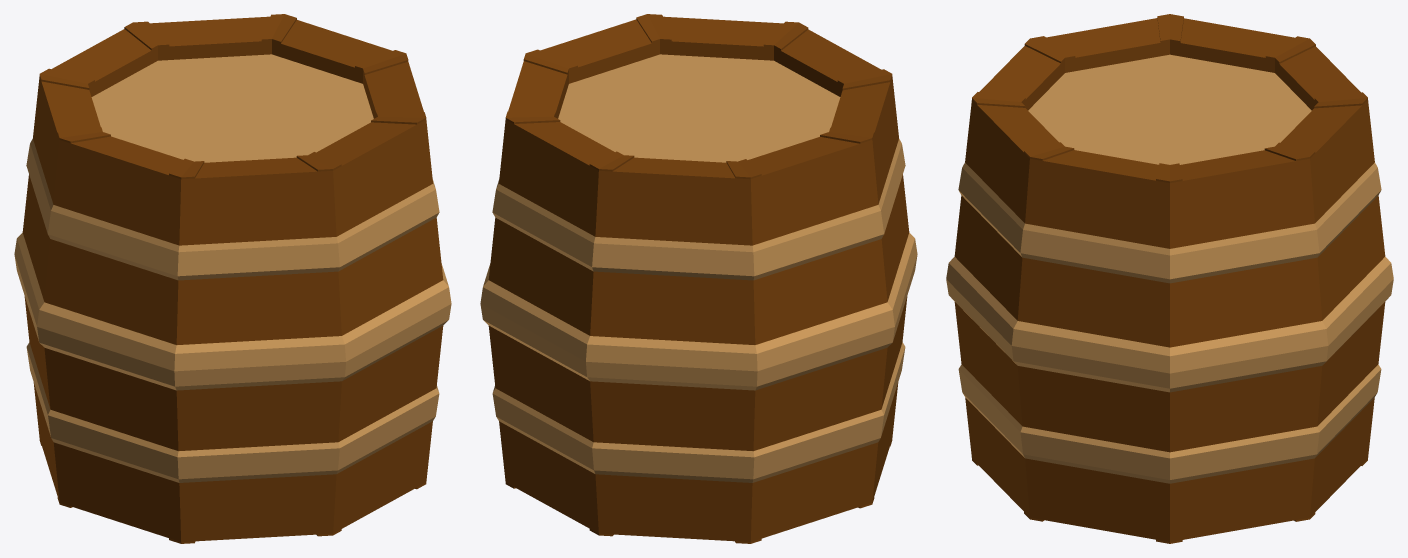
Rendered from fıçı.fbx.
The picture shows the model from 3 angles, left to right: view 1: azimuth 30°, elevation 25°; view 2: azimuth 150°, elevation 25°; view 3: azimuth 270°, elevation 25°; orthographic projection.
Visible parts, largest first — view 1: Fıçı; view 2: Fıçı; view 3: Fıçı.
Part boxes in pixels (x1,y1,x2,y2): Fıçı: [14, 14, 451, 543]; Fıçı: [480, 14, 917, 543]; Fıçı: [946, 14, 1393, 543].
Bounding box in the file's own units: 226 × 202 × 226.
